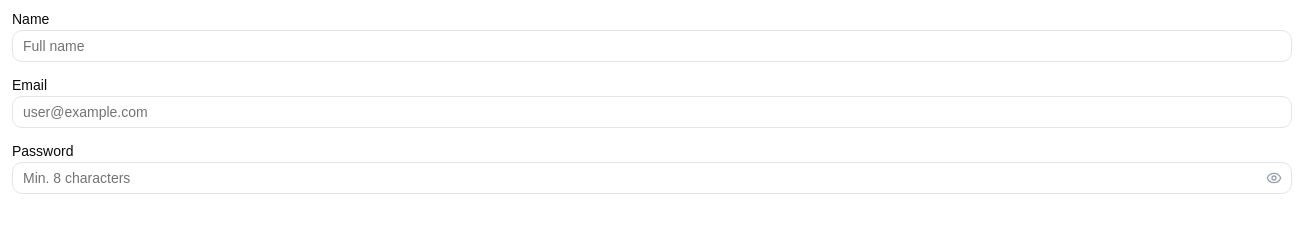
Test case: UserForm › password validation › shows error when password is fewer than 8 characters
The width and height of the screenshot is (1304, 230).
Type "short" into the password field labelled "Password" at (652, 178), box [12,162,1292,194]
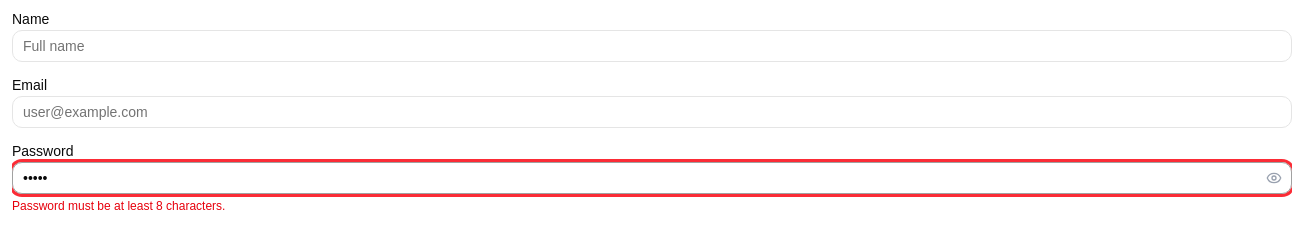
expect the text "Password must be at least 8 characters." is shown: met, box [12,199,225,213]
